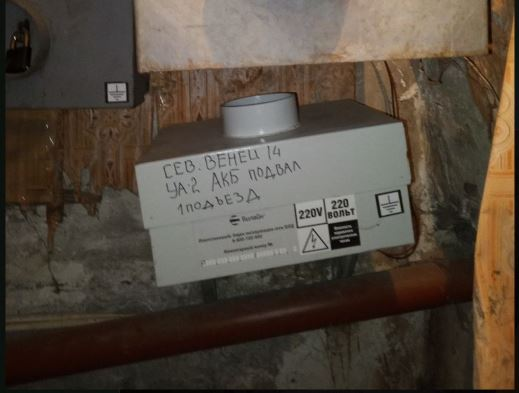shta-ps: (113, 73, 442, 297)
